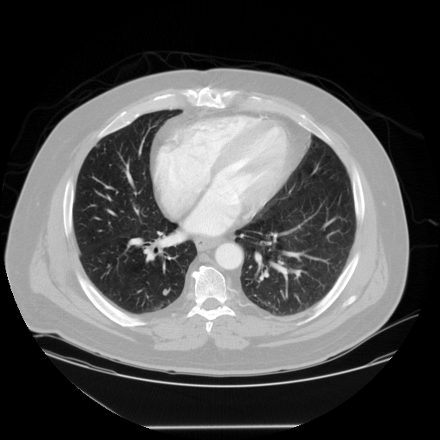nodule: (162, 289, 168, 295)
